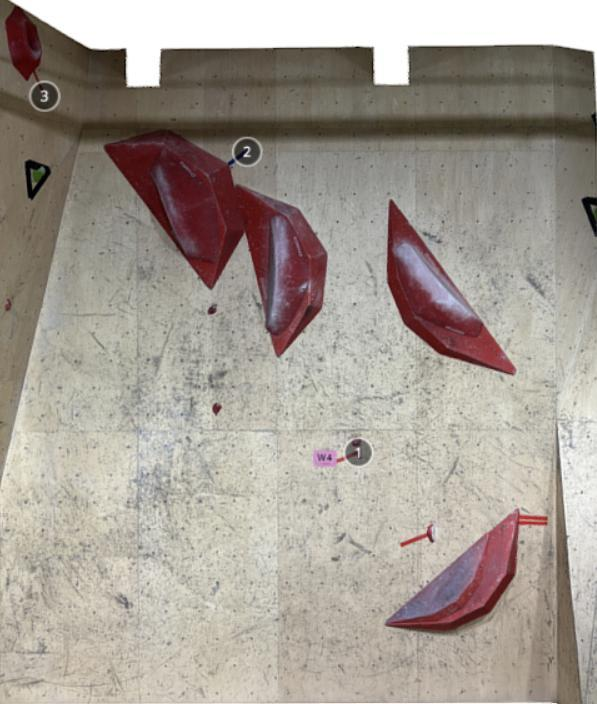hold: (387, 531, 488, 624), (150, 148, 219, 263), (398, 243, 483, 335), (265, 214, 309, 336), (5, 5, 42, 81), (24, 159, 52, 200), (580, 196, 597, 238), (352, 436, 362, 460), (426, 523, 435, 543), (310, 288, 319, 304), (212, 402, 222, 415), (208, 304, 217, 315), (4, 299, 12, 311)
volume: (387, 199, 517, 376), (103, 129, 245, 291), (385, 507, 517, 631), (235, 183, 328, 358)
